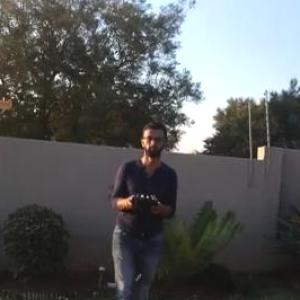follow: (105, 114, 180, 299)
